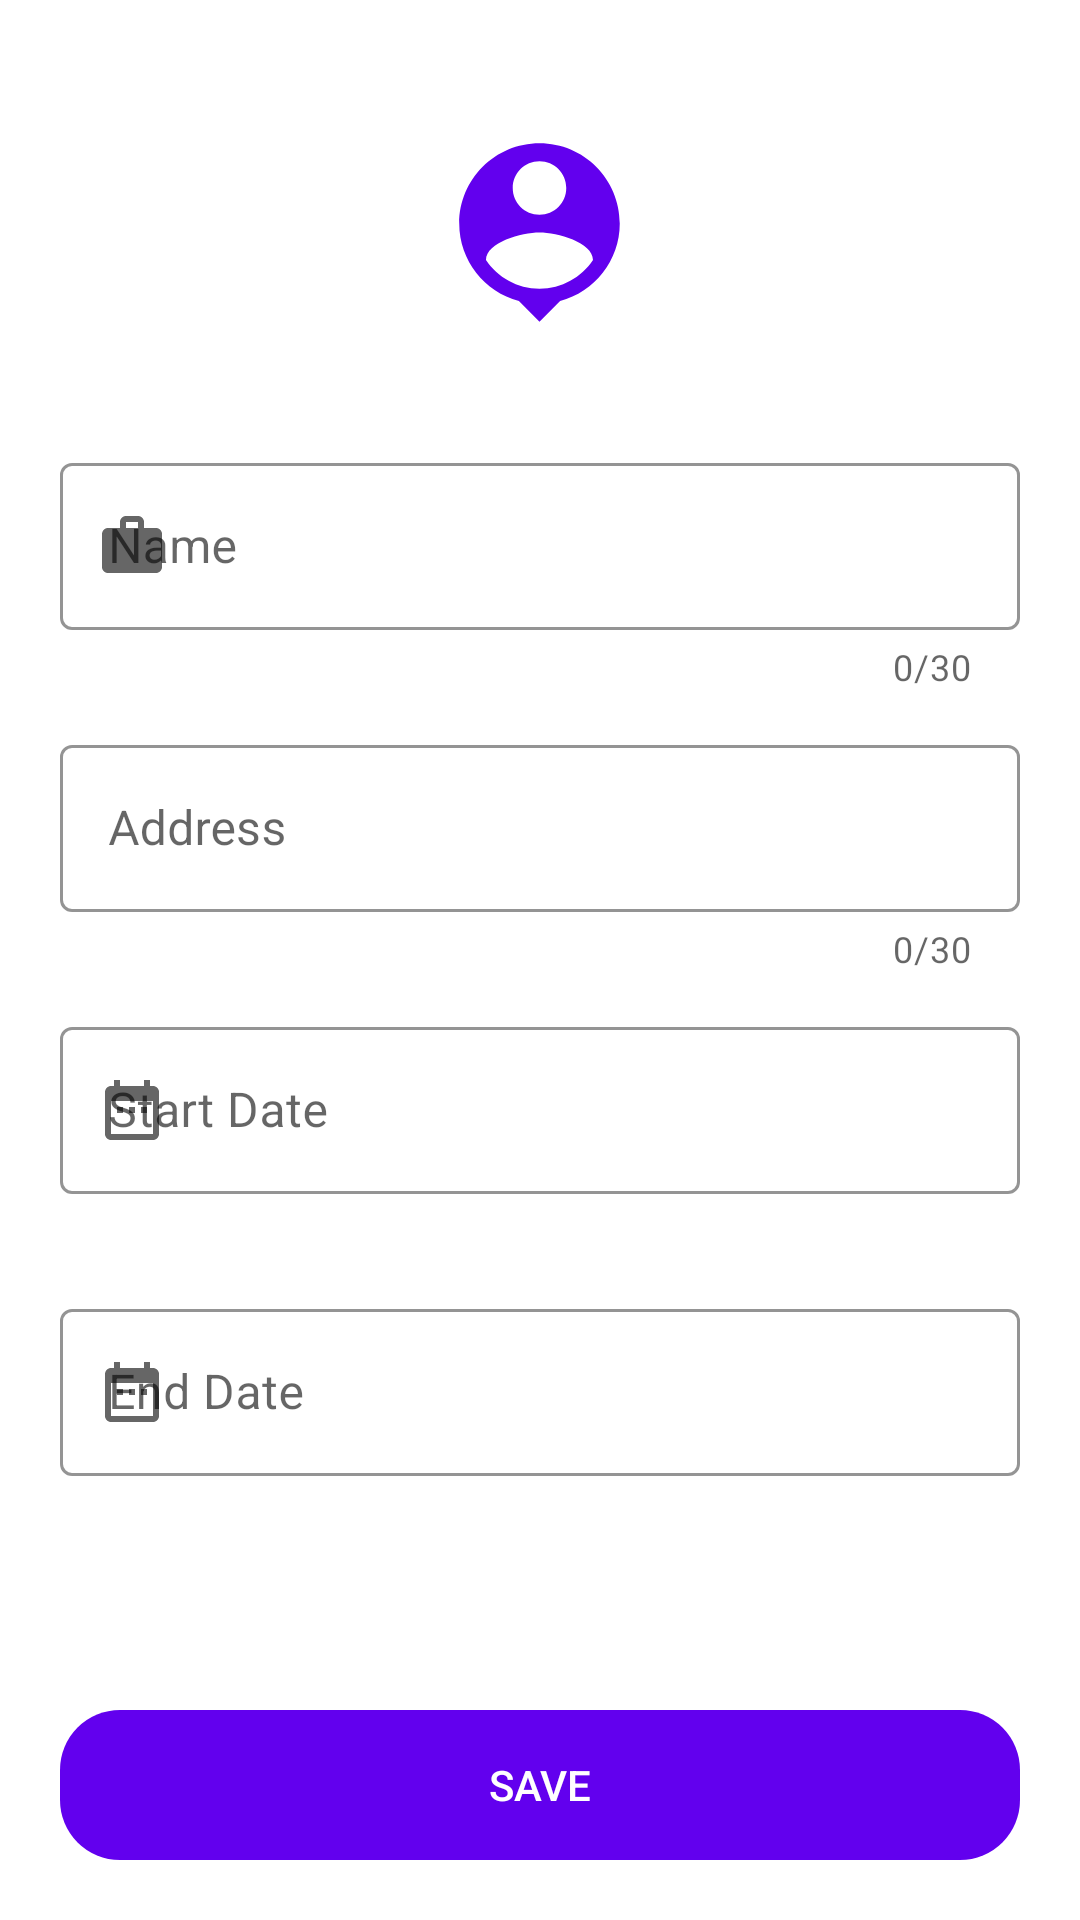

Named icons in this screenshot (1080 x 1920) and their centers, (x,y):
person: (539,232)
